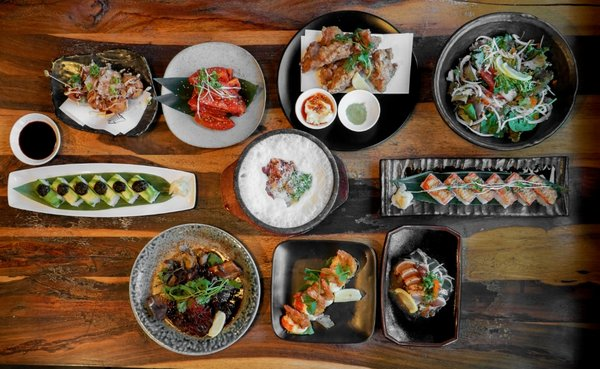pizza: (9, 113, 62, 167)
sushi: (432, 12, 579, 151), (131, 223, 263, 357), (156, 42, 268, 148), (271, 240, 378, 346), (234, 130, 339, 232), (378, 224, 462, 344), (294, 88, 338, 132), (337, 90, 380, 133)
